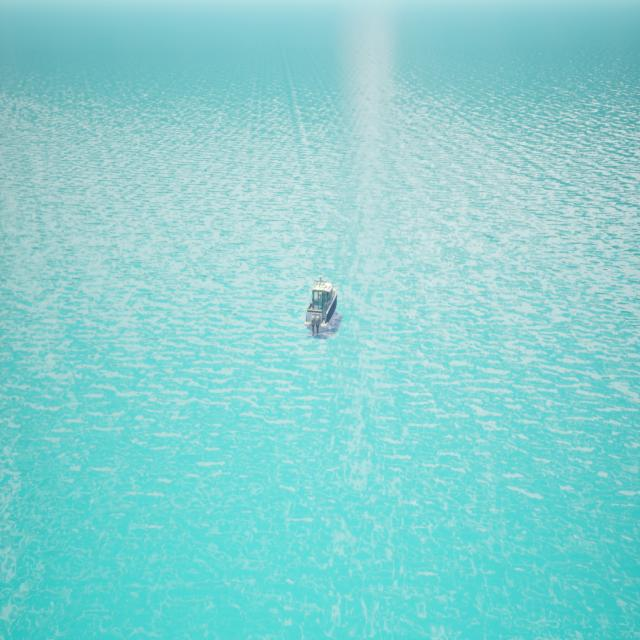ship: (306, 280, 338, 338)
